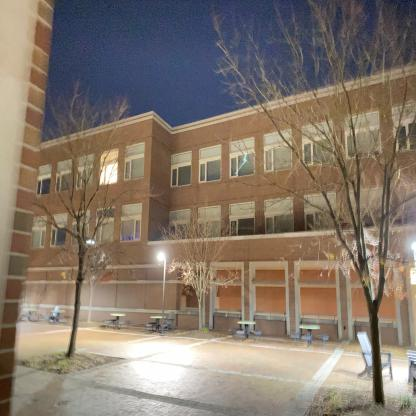eb2: (41, 122, 416, 333)
